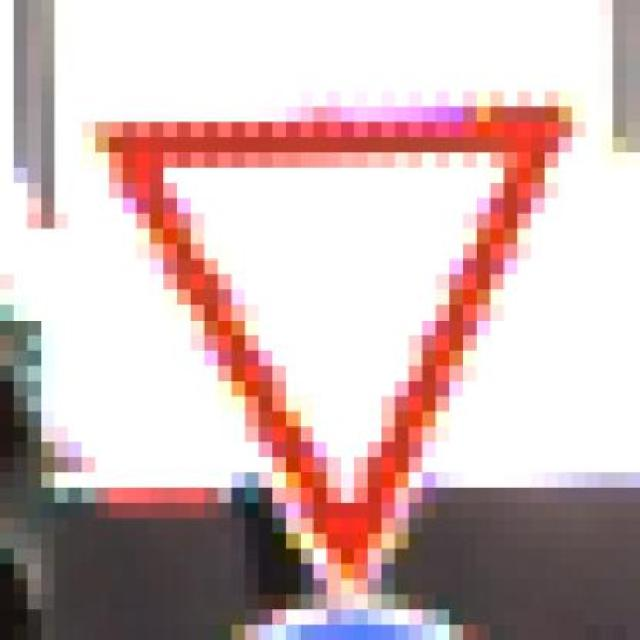Give Way: (55, 92, 599, 610)
